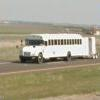Bus: (20, 29, 88, 60)
